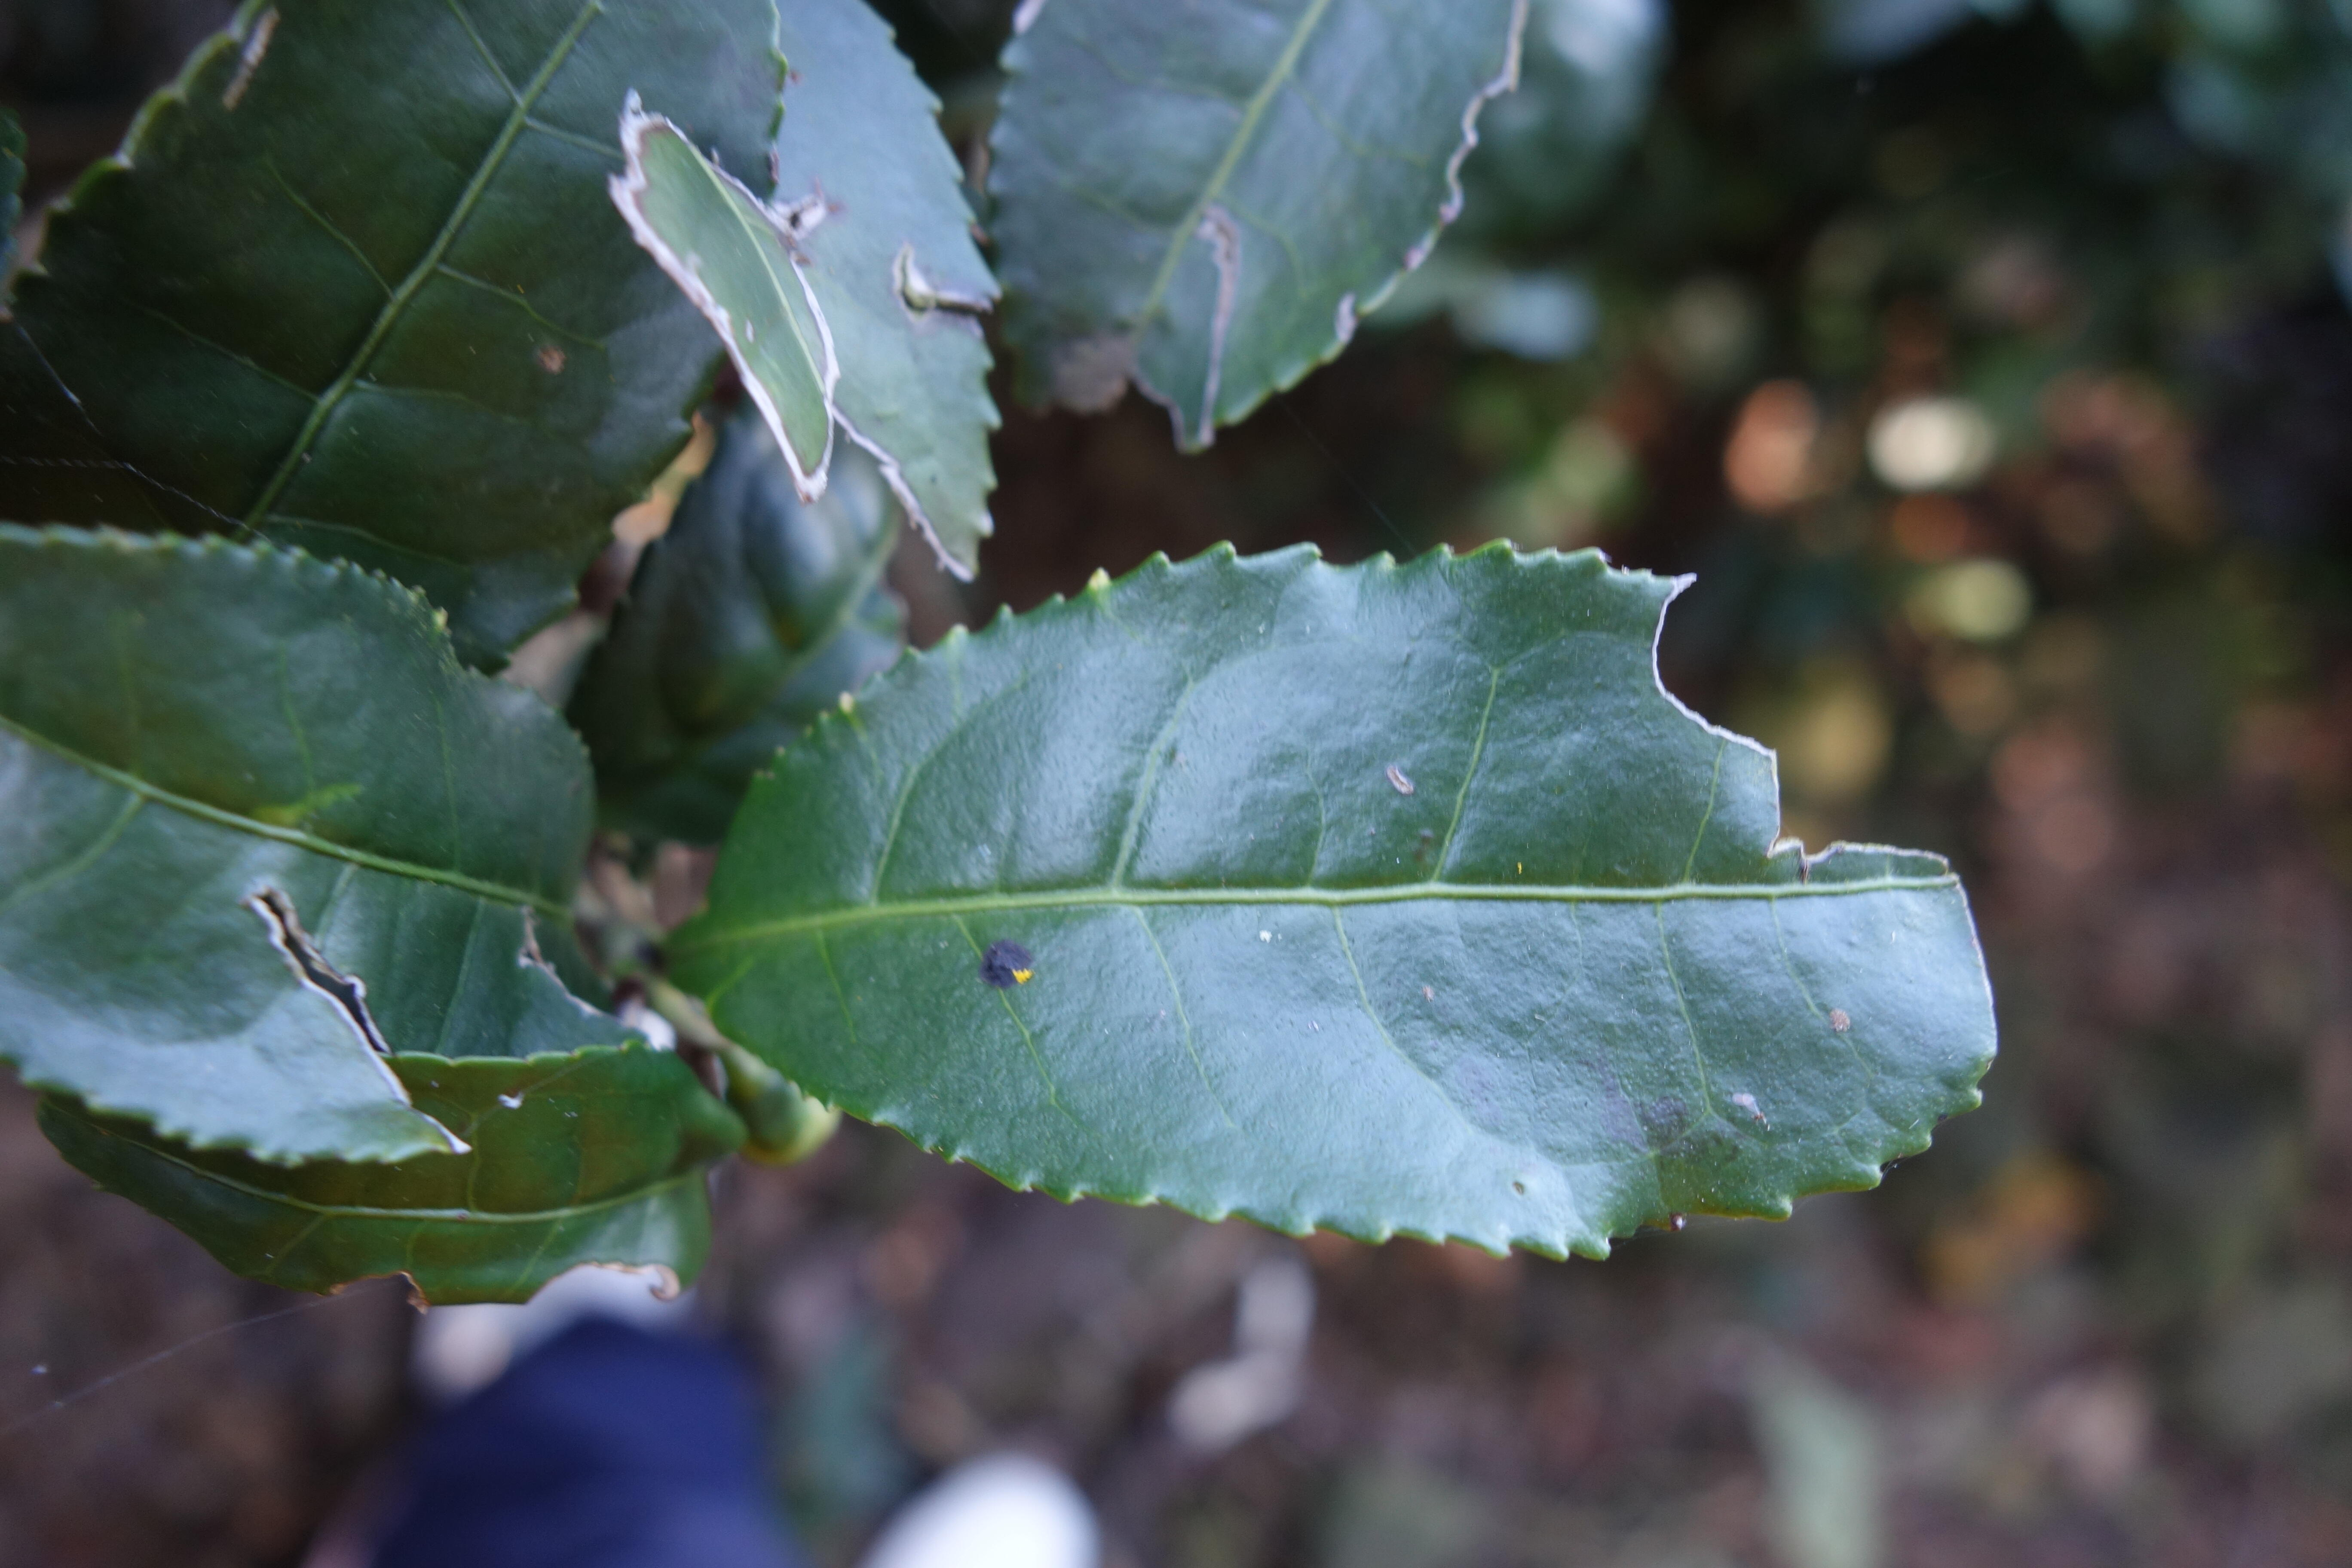chihuo_low: (670, 535, 2005, 1263), (985, 3, 1543, 457)
